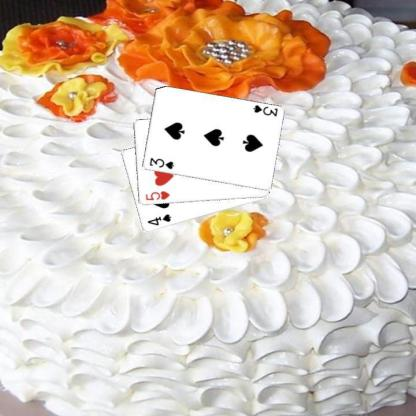3S: (250, 102, 279, 118), (147, 156, 175, 170)
4S: (145, 212, 172, 227)
5H: (143, 189, 170, 202)
